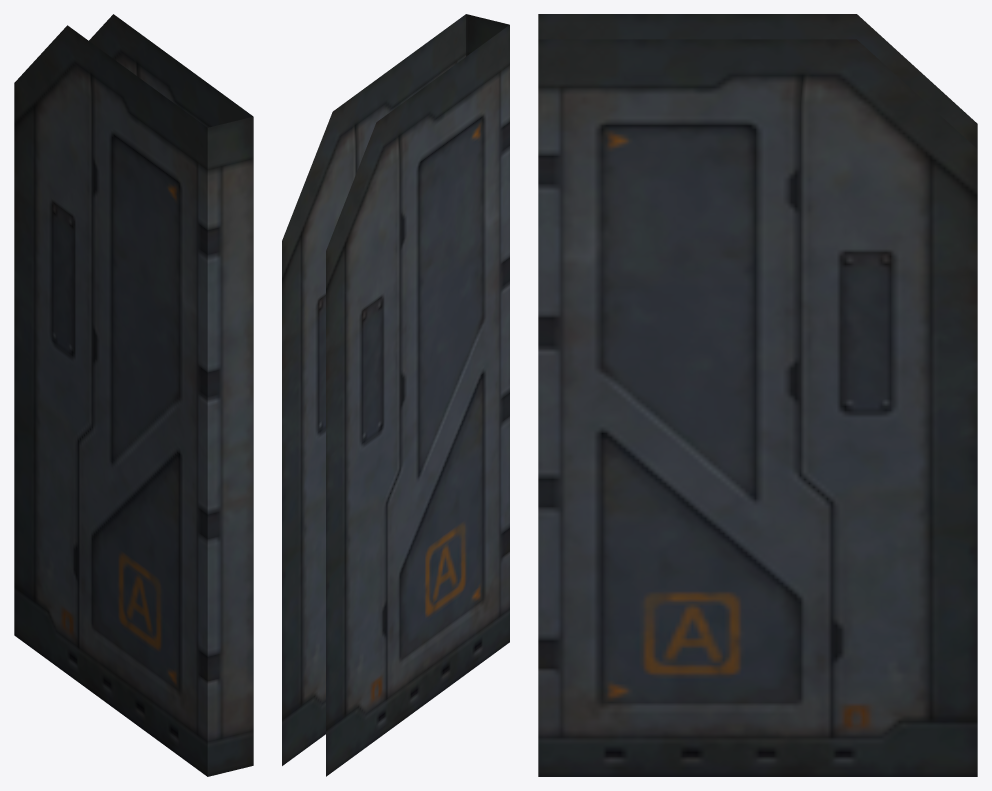
File: GateL.FBX
3 renders of one model, left to right at view 1: azimuth 30°, elevation 25°; view 2: azimuth 150°, elevation 25°; view 3: azimuth 270°, elevation 25°, orthographic. The views are drawn at different scales.
Visible parts, largest first — view 1: GateL; view 2: GateL; view 3: GateL.
Part boxes in pixels (<box>): GateL: <box>14,14,253,776</box>; GateL: <box>282,14,509,776</box>; GateL: <box>538,14,977,776</box>.
Bounding box in the file's own units: 0.1968 × 2.66 × 1.43.
1 material, 1 textured.
